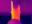Hotspot: (10, 0, 15, 19)
